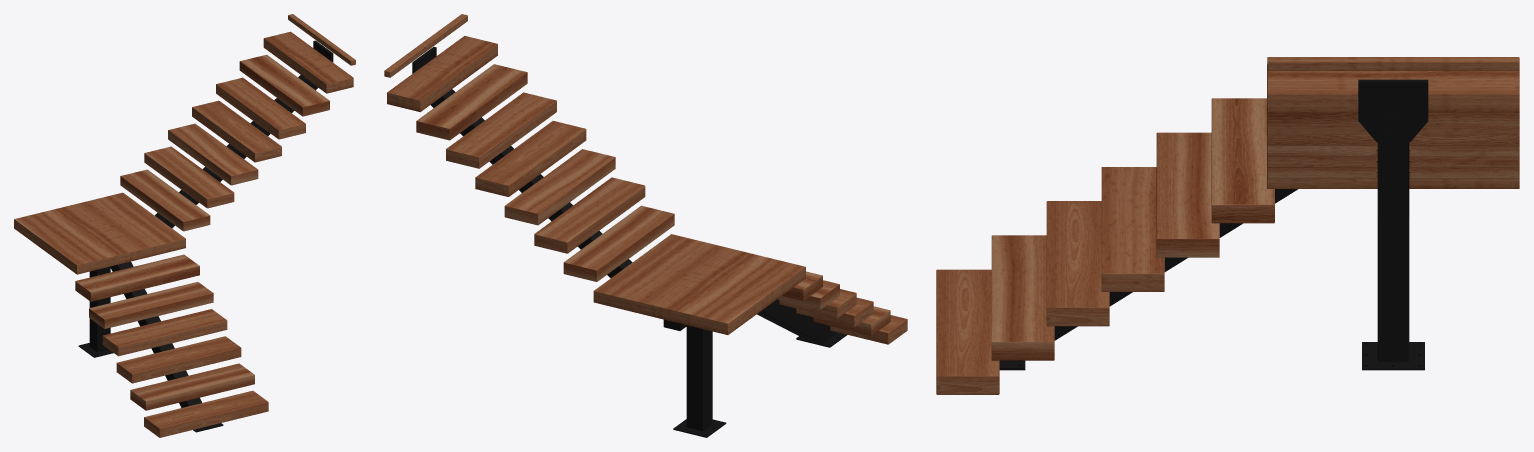
Rendered from L-Shaped_Stair_All-Others.gltf.
3 views of the same model, side by side, from view 1: azimuth 30°, elevation 25°; view 2: azimuth 150°, elevation 25°; view 3: azimuth 270°, elevation 25° (orthographic). The views are drawn at different scales.
Parts seen in each view (by area): view 1: Landing, Tread Block_013, Tread Block_009, Tread Block_010, Tread Block_008, Tread Block_012, Tread Block_011, Tread Block_006, Tread Block_007, Tread Block_002, Tread Block_001, Tread Block_003 (+6 smaller); view 2: Landing, Tread Block_004, Tread Block_001, Tread Block_002, Tread Block_003, Tread Block_006, Tread Block_007, Tread Block_005, Column Tube, Stair Stringer_Lower, Stair Stringer_Upper, Floor Nosing (+6 smaller); view 3: Tread Block_007, Tread Block_011, Tread Block_012, Tread Block_010, Tread Block_009, Tread Block_008, Tread Block_013, Column Tube, Header Plate, Floor Nosing, Tread Block_002, Tread Block_001 (+9 smaller).
Part boxes in pixels (box(x1,y1,x2,y2)): Landing: box(14, 192, 185, 274); Tread Block_013: box(102, 309, 227, 356); Tread Block_009: box(116, 336, 241, 383); Tread Block_010: box(130, 363, 254, 410); Tread Block_008: box(89, 282, 213, 328); Tread Block_012: box(75, 254, 199, 301); Tread Block_011: box(144, 390, 268, 437); Tread Block_006: box(239, 54, 329, 116); Tread Block_007: box(263, 31, 353, 93); Tread Block_002: box(120, 169, 210, 231); Tread Block_001: box(144, 146, 234, 208); Tread Block_003: box(168, 123, 258, 185); Landing: box(593, 234, 805, 334); Tread Block_004: box(475, 121, 586, 196); Tread Block_001: box(534, 177, 645, 253); Tread Block_002: box(563, 205, 674, 281); Tread Block_003: box(504, 149, 615, 225); Tread Block_006: box(416, 64, 527, 140); Tread Block_007: box(387, 36, 497, 112); Tread Block_005: box(446, 92, 556, 168); Column Tube: box(686, 325, 712, 430); Stair Stringer_Lower: box(681, 299, 837, 343); Stair Stringer_Upper: box(431, 89, 632, 277); Floor Nosing: box(384, 14, 467, 77); Tread Block_007: box(1267, 71, 1519, 112); Tread Block_011: box(936, 269, 999, 394); Tread Block_012: box(1211, 98, 1274, 223); Tread Block_010: box(991, 235, 1054, 360); Tread Block_009: box(1046, 201, 1109, 326); Tread Block_008: box(1156, 132, 1219, 257); Tread Block_013: box(1101, 167, 1164, 291); Column Tube: box(1377, 217, 1409, 361); Header Plate: box(1359, 82, 1427, 142); Floor Nosing: box(1267, 57, 1519, 70); Tread Block_002: box(1267, 161, 1519, 178); Tread Block_001: box(1267, 150, 1519, 167).
Bounding box in the file's own units: 3.12 × 2.74 × 2.82.
